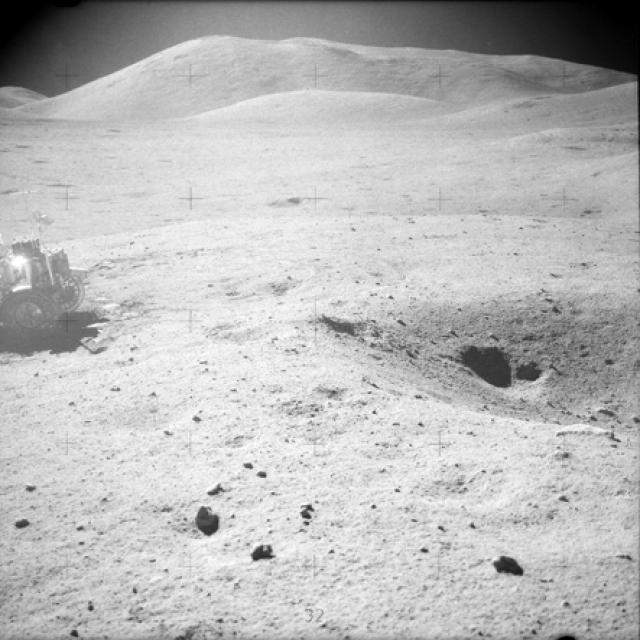artifact: (0, 221, 96, 335)
crater: (364, 290, 640, 422), (454, 340, 514, 390), (518, 358, 545, 384)
rock: (192, 497, 227, 537), (486, 548, 521, 576)
